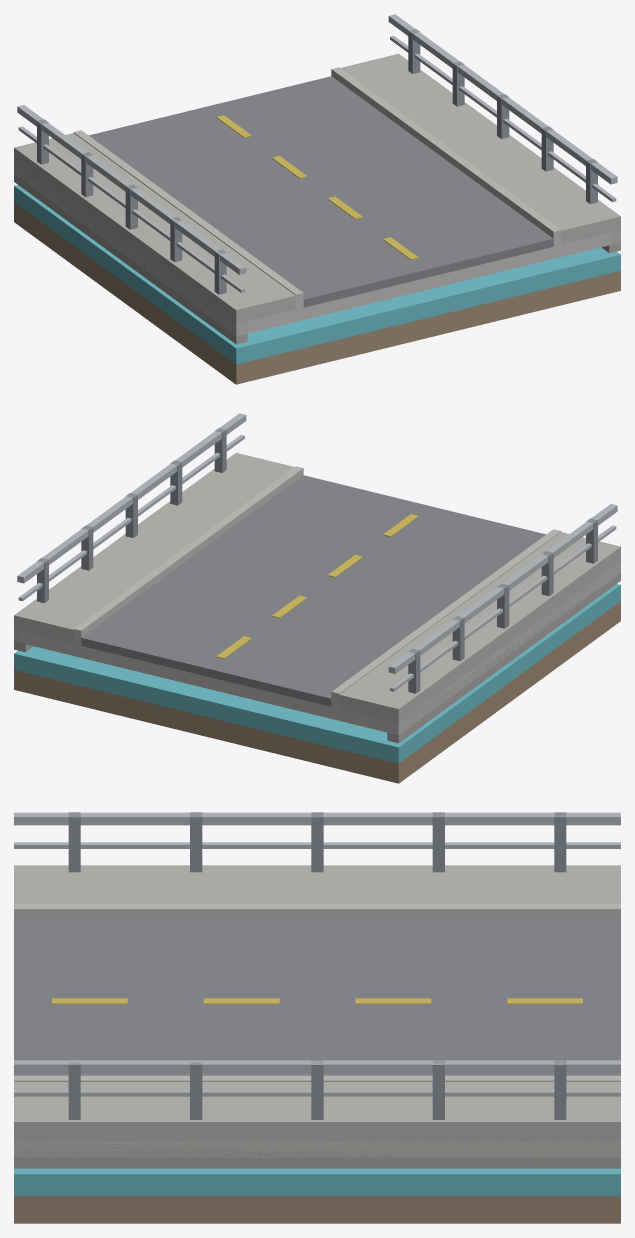
Rendered from ruas__ponte.glb.
The picture shows the model from 3 angles, top to bottom: view 1: azimuth 30°, elevation 25°; view 2: azimuth 150°, elevation 25°; view 3: azimuth 270°, elevation 25°; orthographic projection. The views are drawn at different scales.
Visible parts, largest first — view 1: ruas__ponte; view 2: ruas__ponte; view 3: ruas__ponte.
Part boxes in pixels (<box>): ruas__ponte: <box>14,14,620,384</box>; ruas__ponte: <box>14,413,620,783</box>; ruas__ponte: <box>14,812,620,1223</box>.
Size of the model in its own units: 2 by 0.57 by 2.
